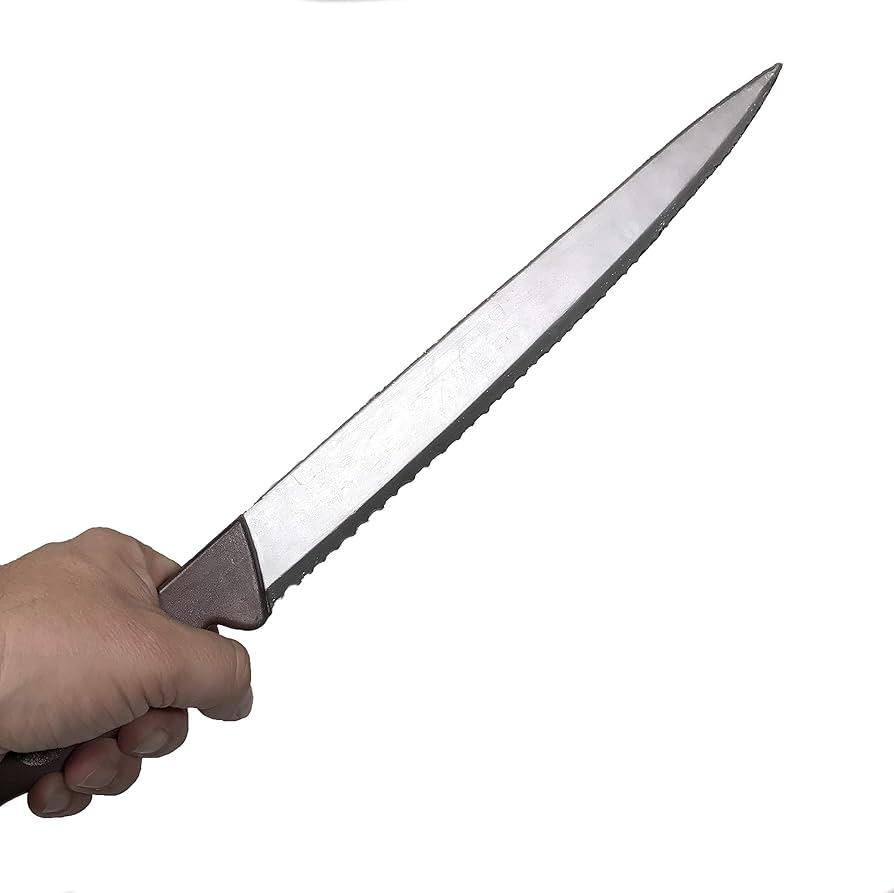Knife: (191, 61, 786, 628), (0, 519, 256, 821), (0, 523, 256, 818)
